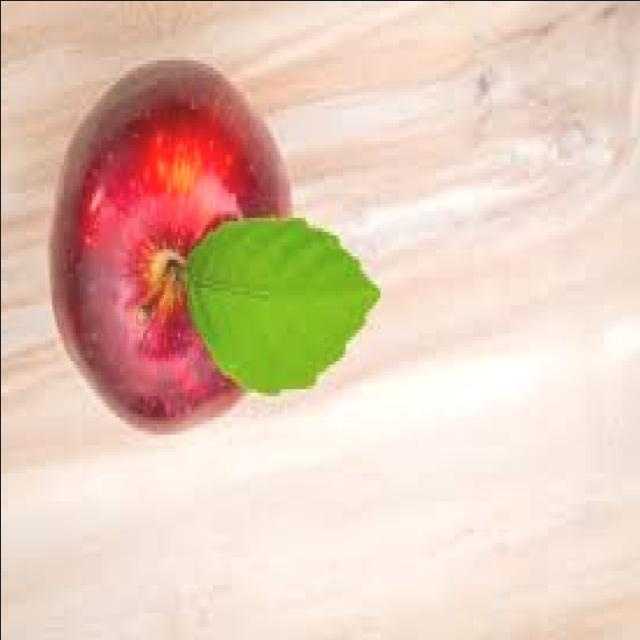agrume: (37, 33, 339, 467)
